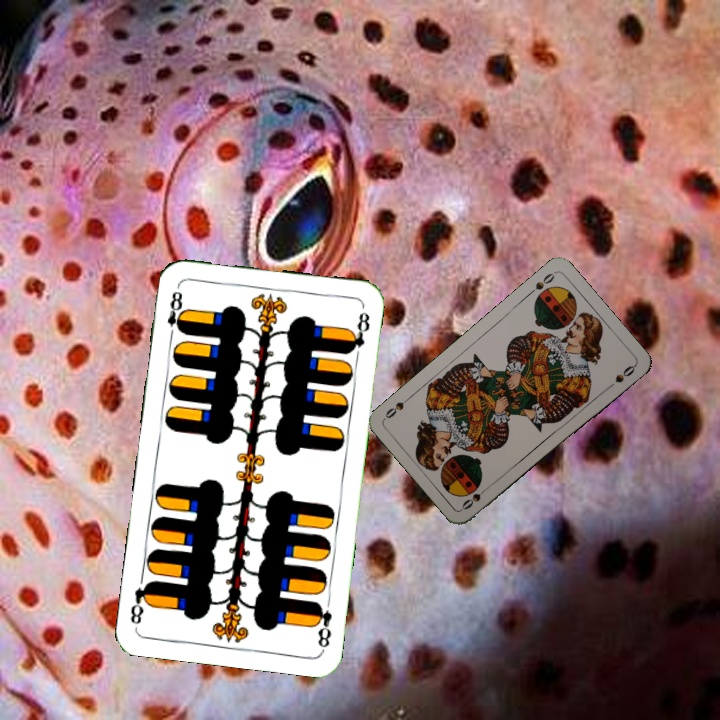E8: (310, 597, 335, 652), (163, 287, 188, 341)
SO: (458, 482, 492, 512), (524, 268, 558, 298)
